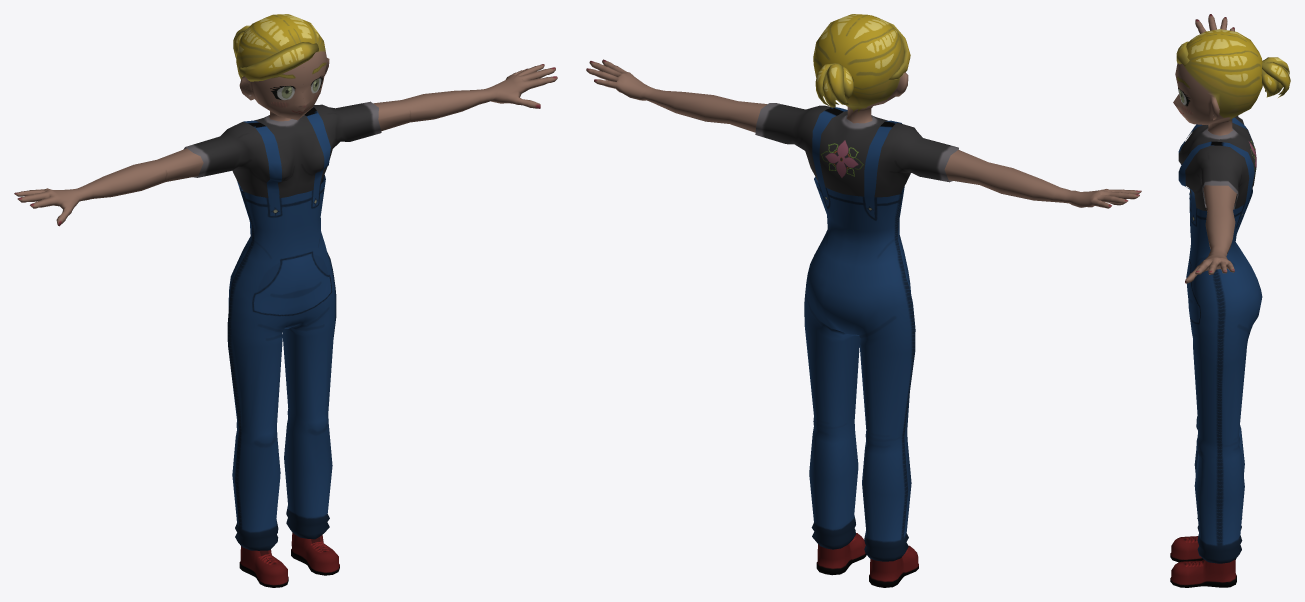
Rendered from model_Protagonista_01.fbx.
3 views of the same model, side by side, from view 1: azimuth 30°, elevation 25°; view 2: azimuth 150°, elevation 25°; view 3: azimuth 270°, elevation 25° (orthographic). The views are drawn at different scales.
Visible parts, largest first — view 1: camisa.001, Mesh sem membro.001, camisa.003, tênis.001, NurbsPath.012; view 2: camisa.001, Mesh sem membro.001, camisa.003, tênis.001, NurbsPath.012; view 3: camisa.001, Mesh sem membro.001, camisa.003, tênis.001, NurbsPath.012.
Part boxes in pixels (x1,y1,x2,y2): camisa.001: (227,107,336,550); Mesh sem membro.001: (14,14,557,226); camisa.003: (183,101,381,197); tênis.001: (239,532,339,587); NurbsPath.012: (233,25,318,81); camisa.001: (804,107,915,561); Mesh sem membro.001: (586,14,1141,208); camisa.003: (755,103,958,197); tênis.001: (816,533,918,587); NurbsPath.012: (815,17,910,107); camisa.001: (1178,117,1262,563); Mesh sem membro.001: (1173,14,1262,283); camisa.003: (1178,115,1256,210); tênis.001: (1170,536,1236,587); NurbsPath.012: (1176,41,1290,97).
Bounding box in the file's own units: 885 × 857 × 174.
